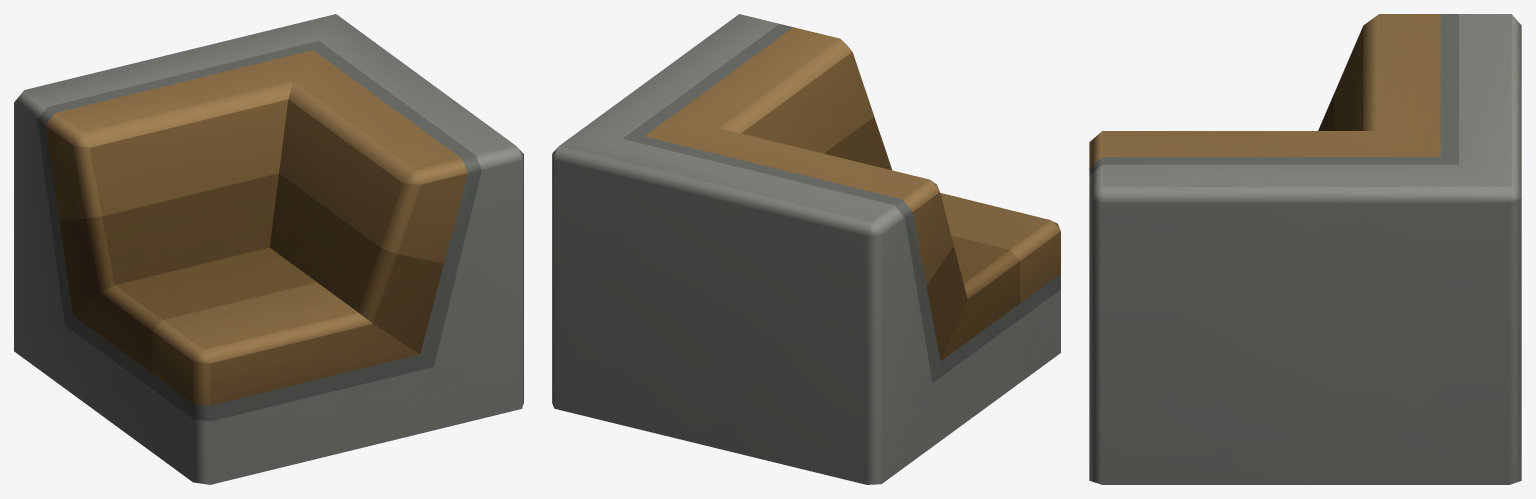
The model's file is chair_roof_corner_conc_wood.fbx.
The picture shows the model from 3 angles, left to right: view 1: azimuth 30°, elevation 25°; view 2: azimuth 150°, elevation 25°; view 3: azimuth 270°, elevation 25°; orthographic projection. The views are drawn at different scales.
Parts seen in each view (by area): view 1: chair_roof_corner_conc_wood; view 2: chair_roof_corner_conc_wood; view 3: chair_roof_corner_conc_wood.
Part boxes in pixels (<box>): chair_roof_corner_conc_wood: <box>14,14,523,484</box>; chair_roof_corner_conc_wood: <box>552,14,1060,484</box>; chair_roof_corner_conc_wood: <box>1089,14,1521,484</box>.
Bounding box in the file's own units: 100 × 75 × 100.
